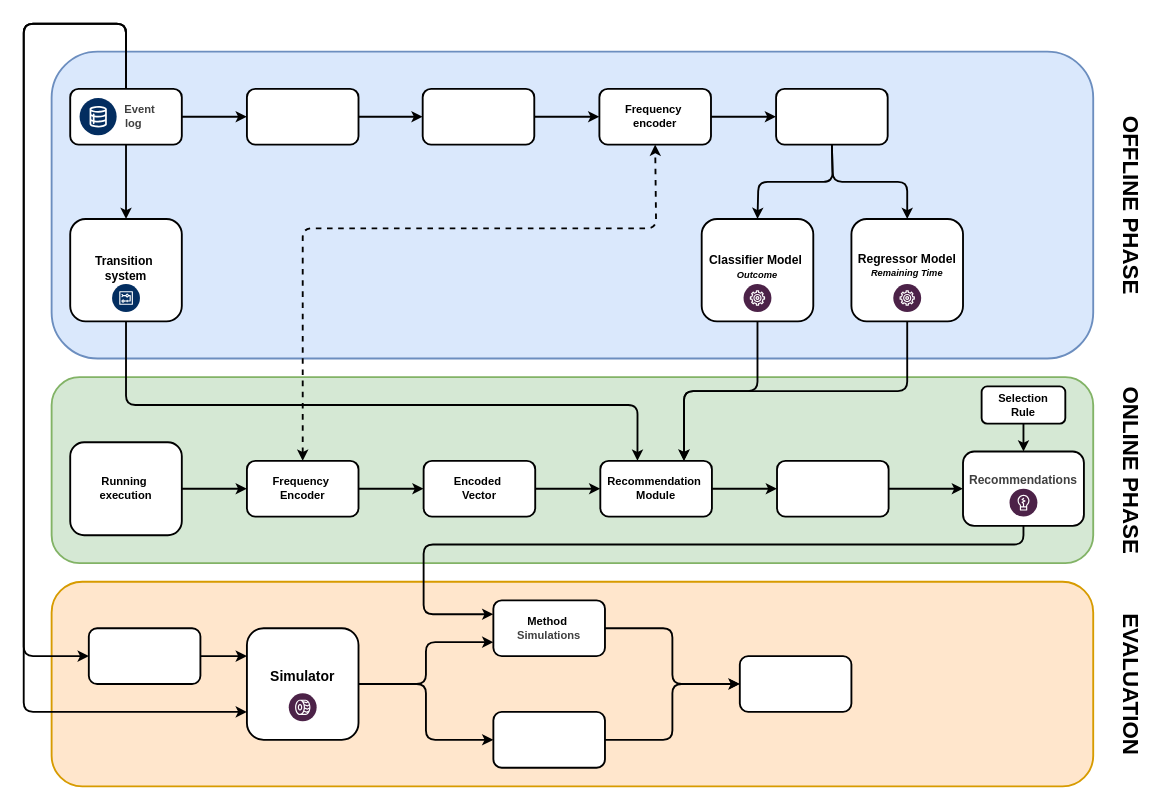
Some shapes in this 1164 by 803 pixel diagram are drawn without their labels. Here are the shapes that lost their labels. From the top down, the centre of each, then its label:
At [302,116]: "Data preprocessing".
At [478,116]: "Prefix extraction".
At [831,116]: "Prefix Training Set".
At [832,488]: "Pareto Front".
At [144,655]: "Petri net Discovery".
At [795,683]: "Results".
At [548,739]: "Baseline Simulations".
